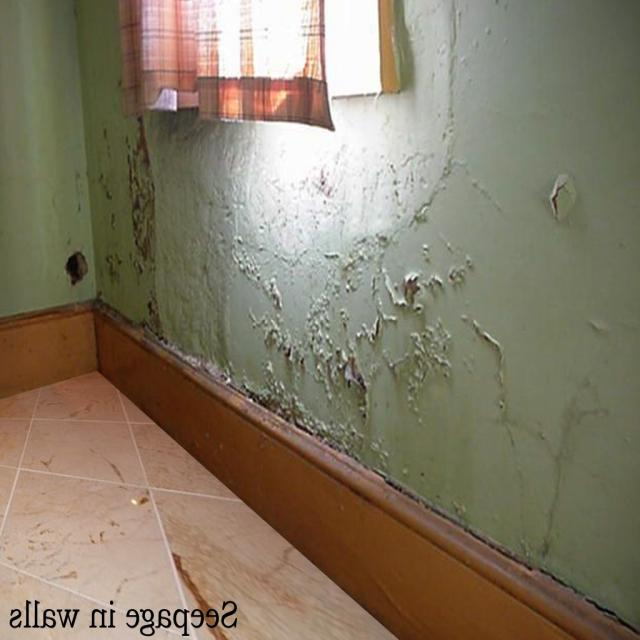Water_Leakage: (39, 100, 618, 486)
